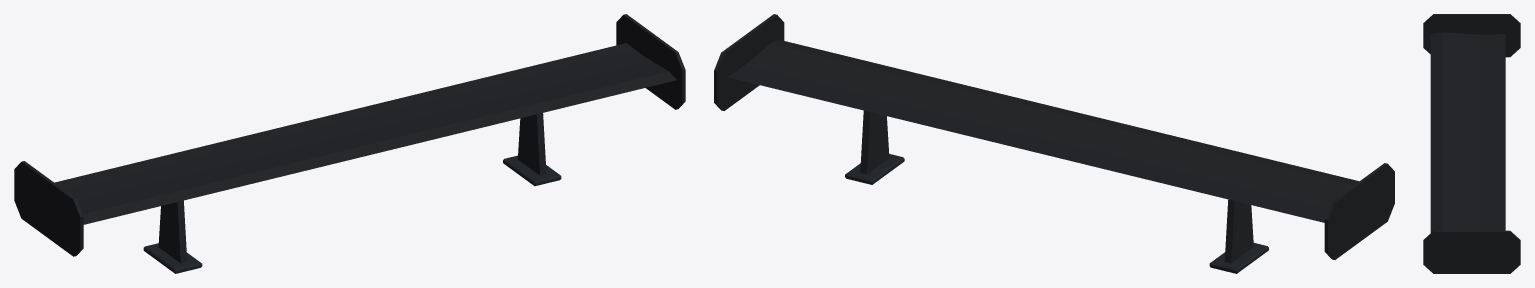
The model's file is ridgeback_4x4.glb.
3 views of the same model, side by side, from view 1: azimuth 30°, elevation 25°; view 2: azimuth 150°, elevation 25°; view 3: azimuth 270°, elevation 25° (orthographic). The views are drawn at different scales.
Parts seen in each view (by area): view 1: wing_element, model; view 2: wing_element, model; view 3: wing_element.
Boxes of the visible parts, x1,y1,x2,y2 form: wing_element: [14, 14, 685, 256]; model: [143, 113, 561, 273]; wing_element: [714, 14, 1394, 259]; model: [845, 110, 1268, 273]; wing_element: [1423, 14, 1520, 273].
Size of the model in its own units: 1.52 by 0.2564 by 0.2859.
2 materials, 1 textured.
